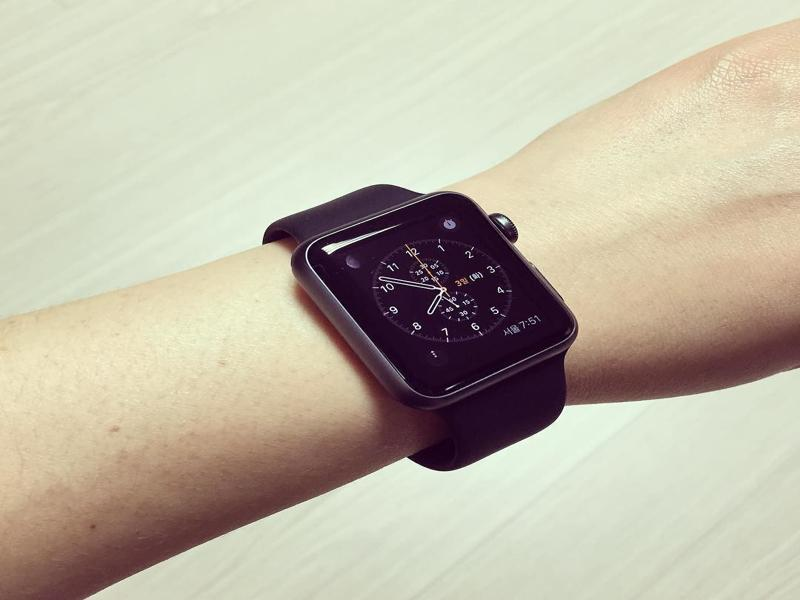watch: (256, 182, 581, 472)
